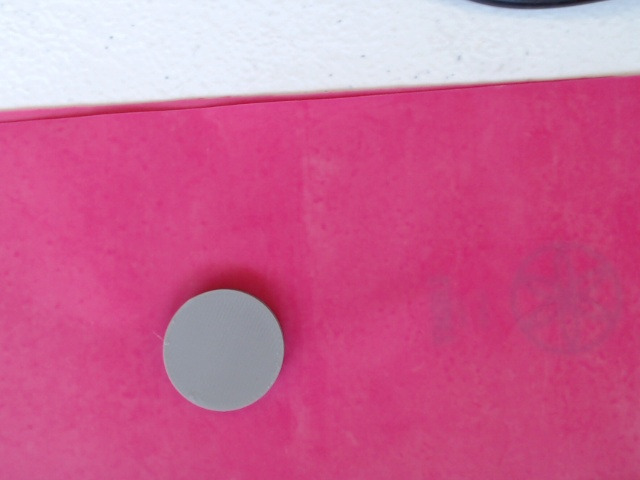NonDefective: (160, 286, 292, 412)
